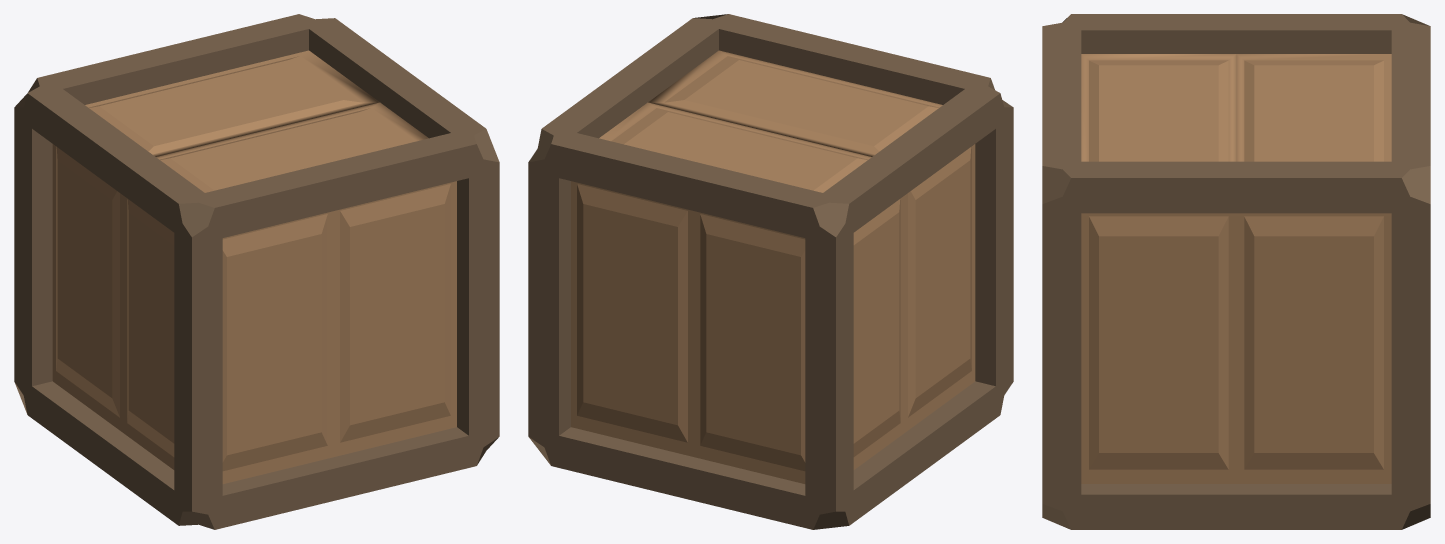
The picture shows the model from 3 angles, left to right: view 1: azimuth 30°, elevation 25°; view 2: azimuth 150°, elevation 25°; view 3: azimuth 270°, elevation 25°; orthographic projection. The views are drawn at different scales.
Visible parts, largest first — view 1: Cube.001; view 2: Cube.001; view 3: Cube.001.
Boxes of the visible parts, box(x1,y1,x2,y2) form: Cube.001: box(14, 14, 499, 529); Cube.001: box(528, 14, 1013, 529); Cube.001: box(1042, 14, 1430, 529).
Size of the model in its own units: 111 by 111 by 111.
